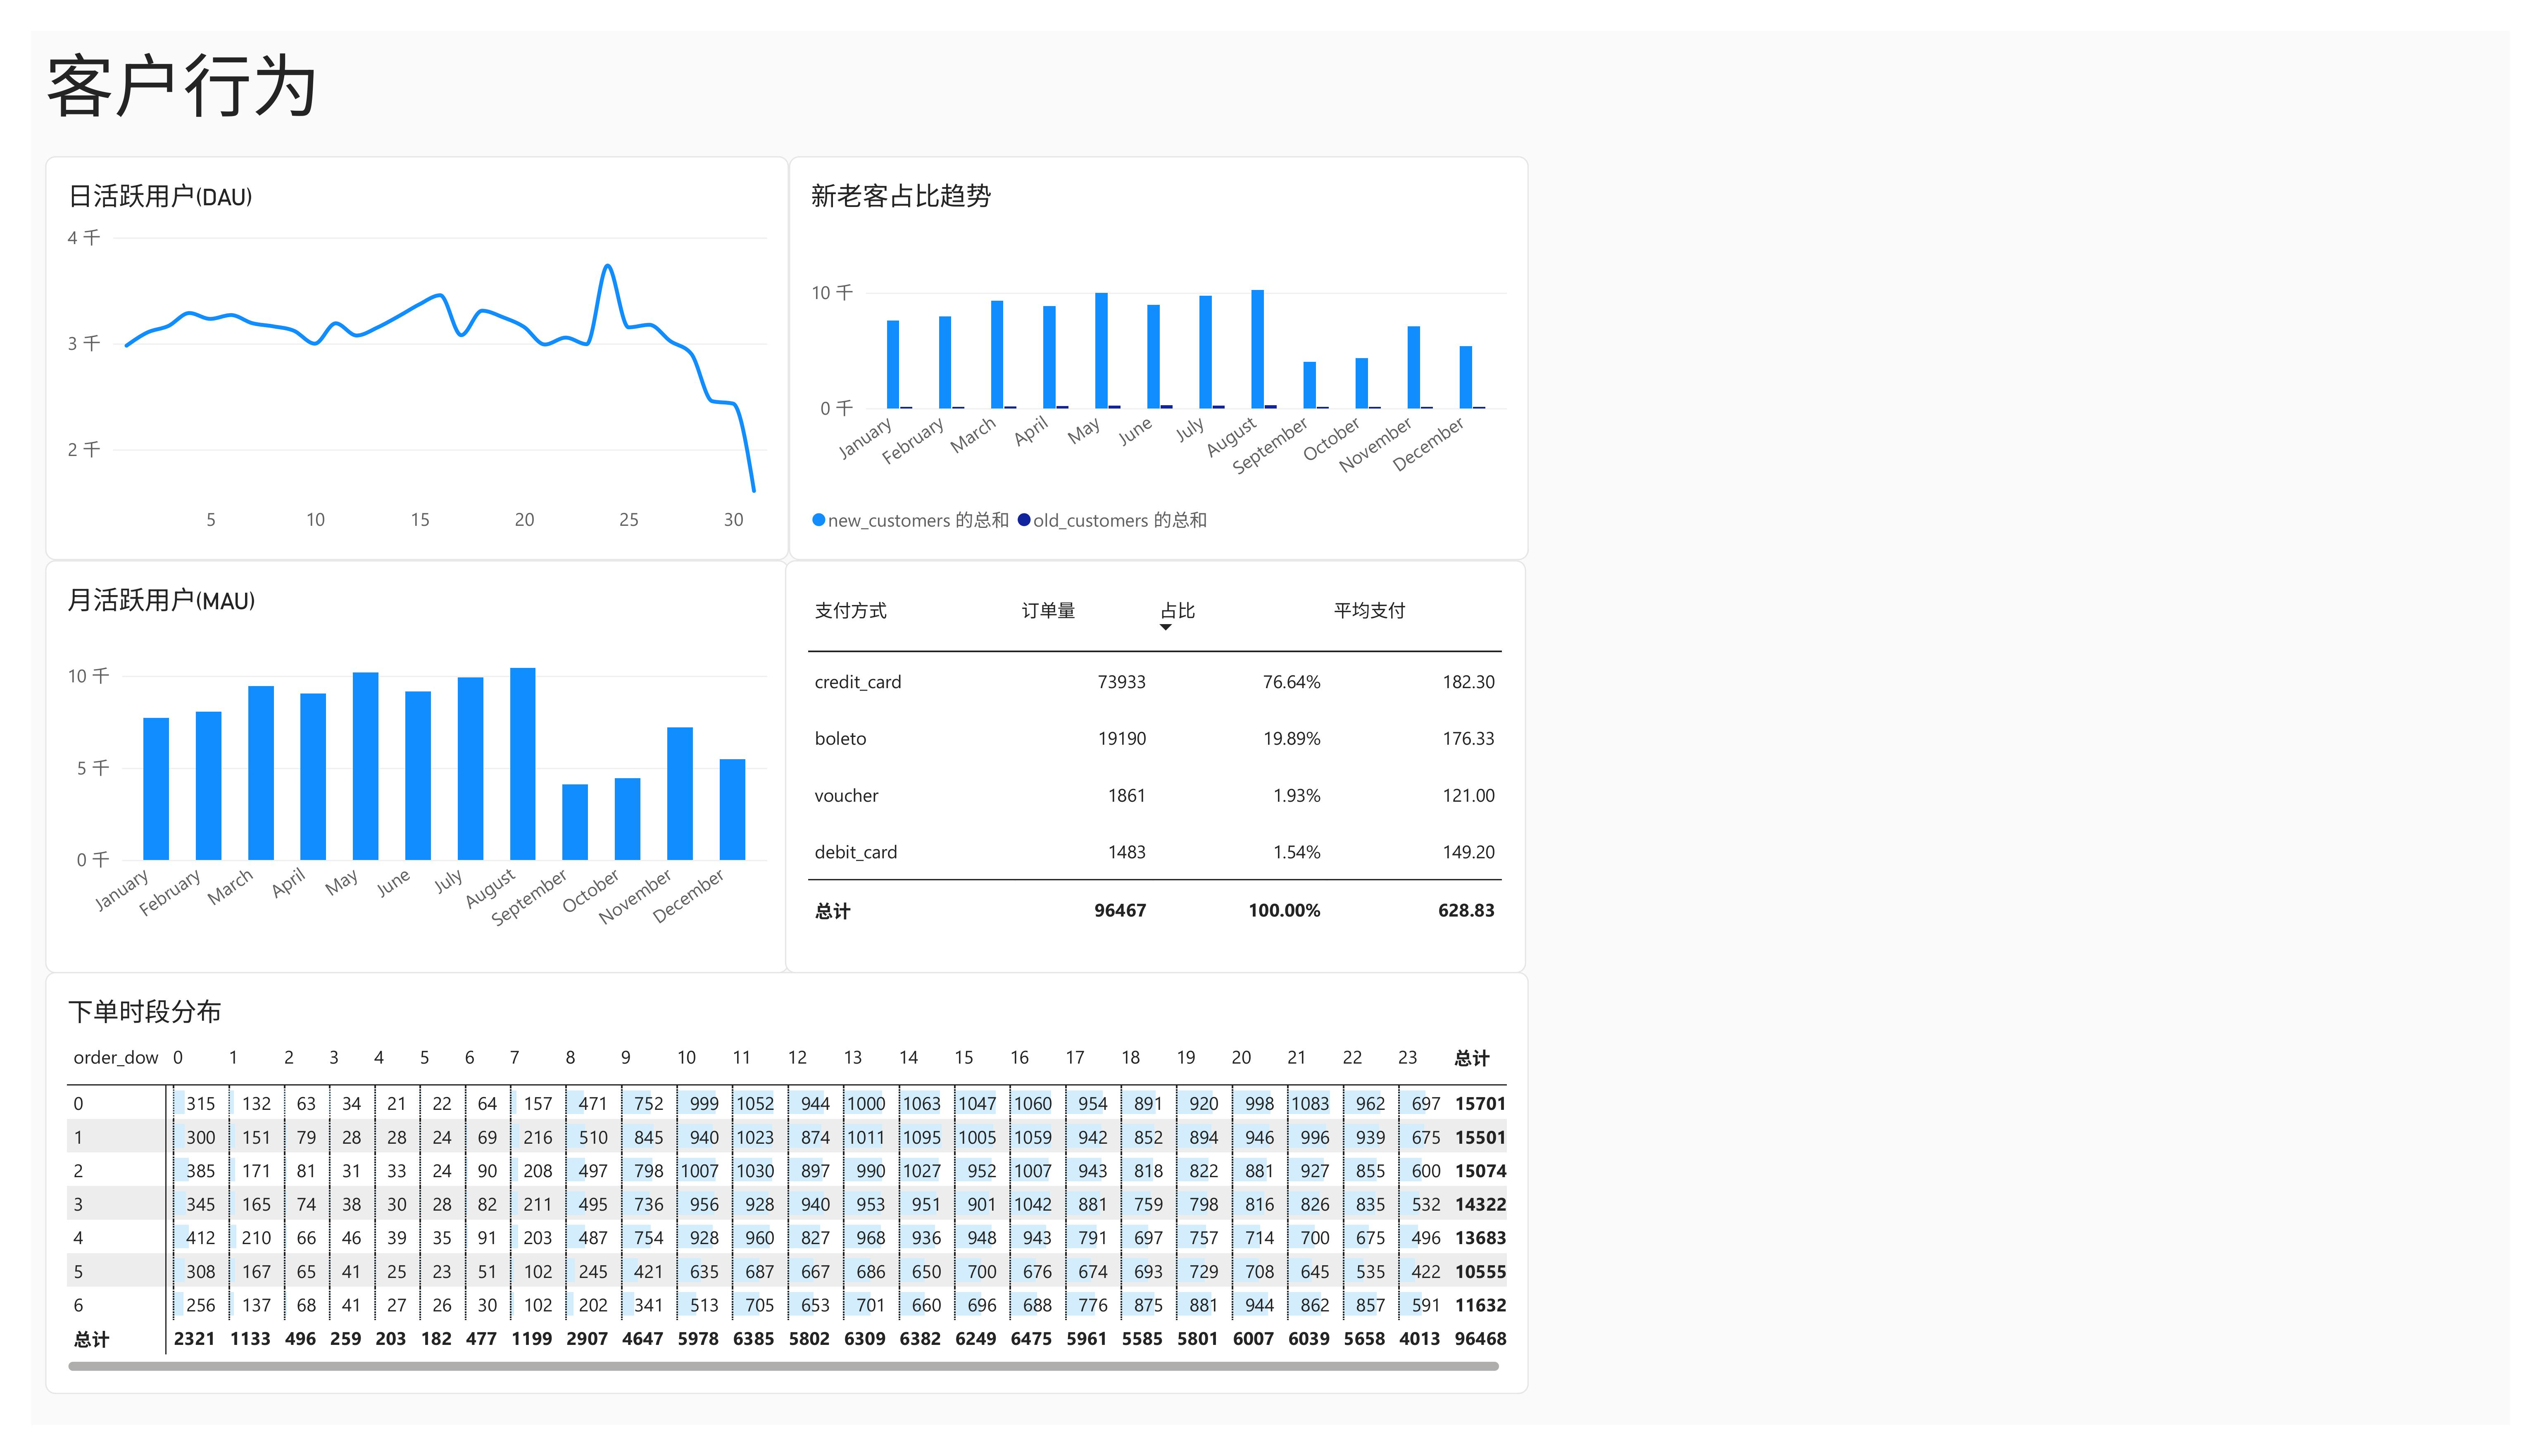

What the dashboard file says about the page in this screenshot:
{"tool":"powerbi","page":{"name":"客户行为","canvas":[1920,1080],"ordinal":1},"visuals":[{"type":"lineChart","title":"日活跃用户(DAU)","fields":{"Category":["dau.order_date.变体.日期层次结构.日"],"Y":["Sum(dau.dau)"]},"box":[11.4,97.1,575.7,312.9],"z":0},{"type":"clusteredColumnChart","title":"月活跃用户(MAU)","fields":{"Category":["mau.order_month.变体.日期层次结构.月份"],"Y":["Sum(mau.mau)"]},"box":[11.4,410,575.7,320],"z":1000},{"type":"lineClusteredColumnComboChart","title":"新老客占比趋势","fields":{"Category":["new_old_customers.order_month.变体.日期层次结构.月份","new_old_customers.order_month.变体.日期层次结构.日"],"Y":["Sum(new_old_customers.new_customers)","Sum(new_old_customers.old_customers)"]},"box":[587.1,97.1,572.9,312.9],"z":2000},{"type":"tableEx","fields":{"Values":["payment_type.payment_type","Sum(payment_type.orders)","Sum(payment_type.pct)","Sum(payment_type.avg_payment)"]},"box":[584.3,410,574,320],"z":3000},{"type":"pivotTable","title":"下单时段分布","fields":{"Columns":["olist_clean.order_hour"],"Rows":["olist_clean.order_dow"],"Values":["_Measures.M_订单量"]},"box":[11.4,728.6,1148.6,327.1],"z":4000},{"type":"textbox","box":[1170,97,573,313],"z":5000},{"type":"textbox","box":[11.4,0,1385.7,97.1],"z":6000}]}

Visuals, with their boxes on the page's 1920x1080 design canvas (x1, y1, x2, y2). These are canvas units, not pixel positions in the 2541x1456 screenshot, which may show the page scaled, cropped or inside an application window:
"日活跃用户(DAU)" lineChart: crop(11, 97, 587, 410)
"月活跃用户(MAU)" clusteredColumnChart: crop(11, 410, 587, 730)
"新老客占比趋势" lineClusteredColumnComboChart: crop(587, 97, 1160, 410)
tableEx - payment_type.payment_type x Sum(payment_type.orders): crop(584, 410, 1158, 730)
"下单时段分布" pivotTable: crop(11, 729, 1160, 1056)
textbox: crop(1170, 97, 1743, 410)
textbox: crop(11, 0, 1397, 97)
